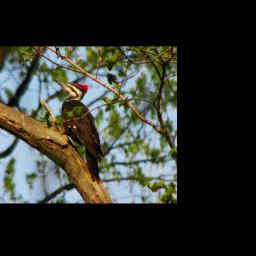Woodpecker: (50, 77, 106, 185)
